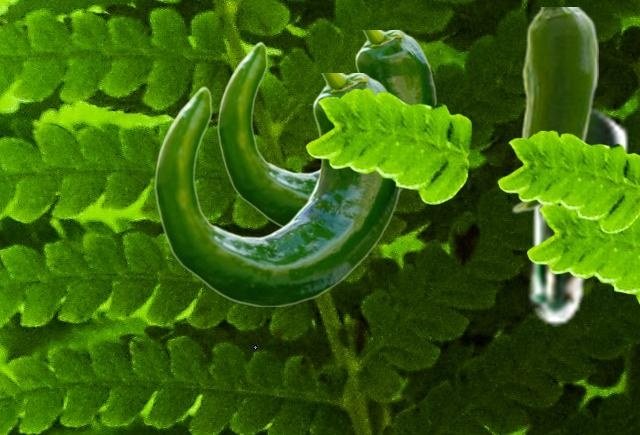green_chili: (154, 73, 403, 305), (217, 30, 436, 226), (523, 101, 629, 325), (510, 7, 597, 213)
